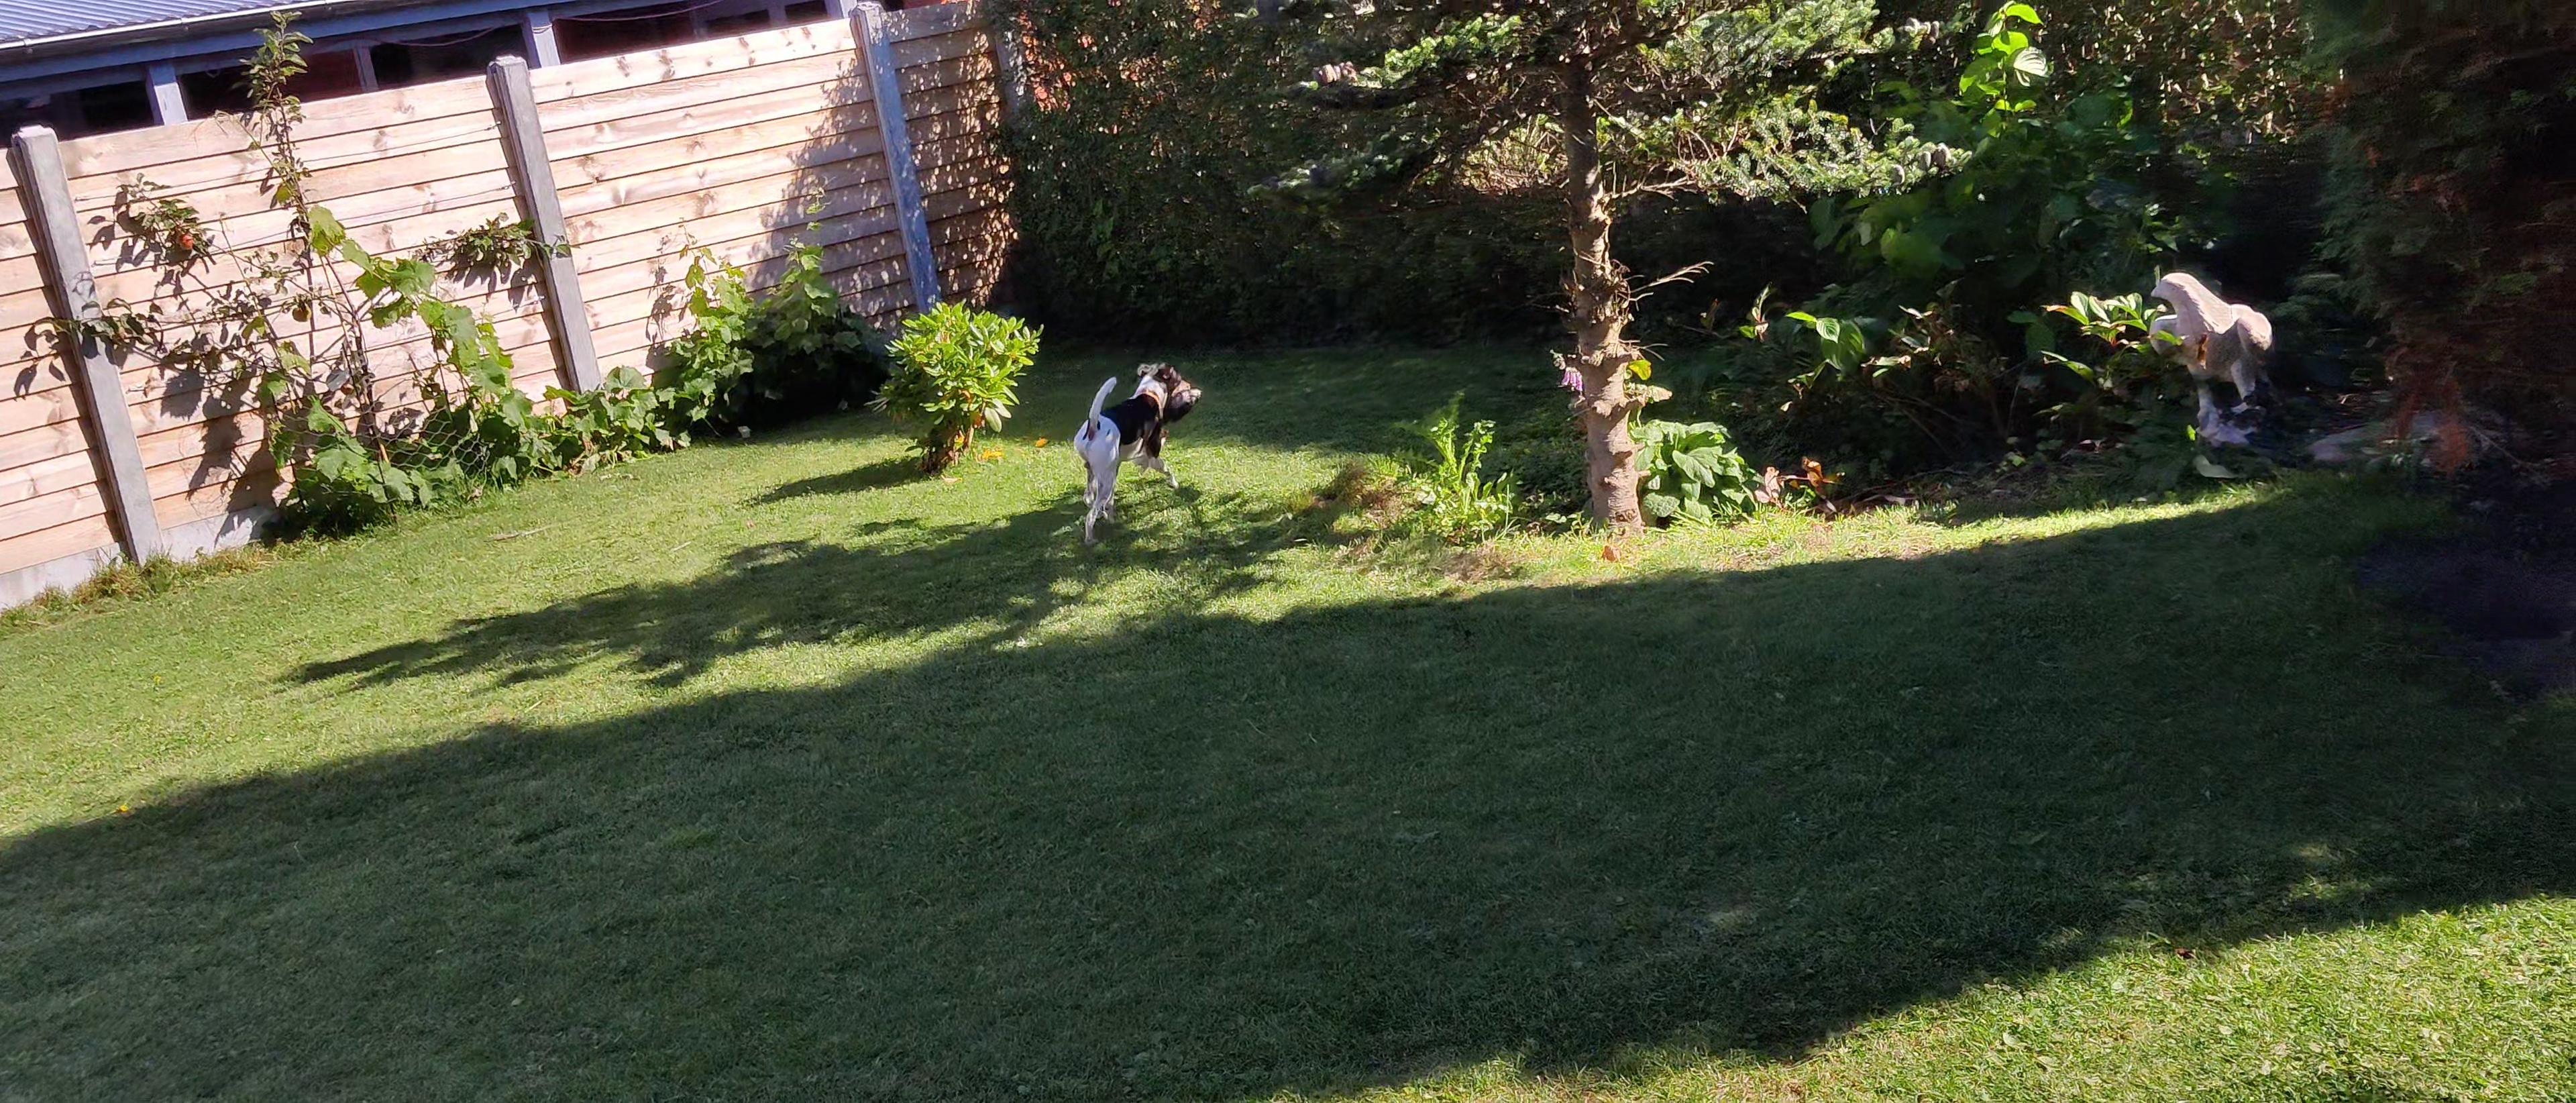Dog: (1073, 357, 1191, 544)
